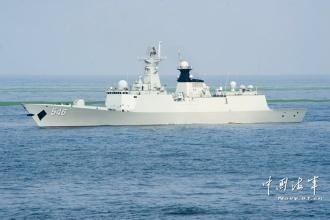warship: (16, 40, 309, 127)
